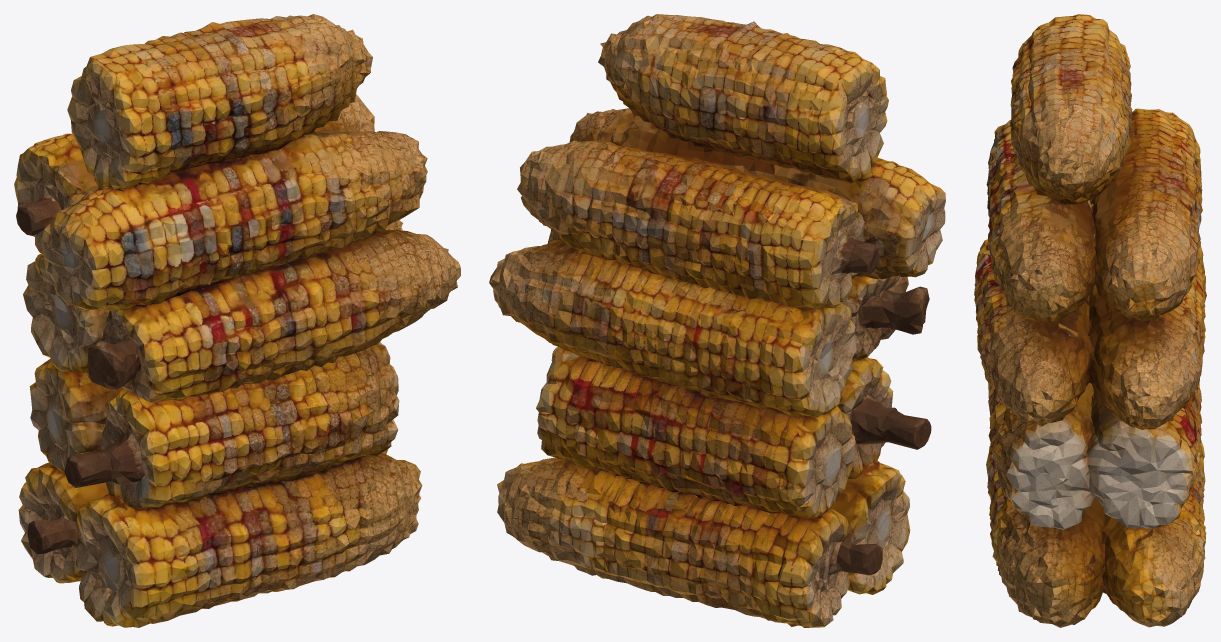
Rendered from belly (169).glb.
3 views of the same model, side by side, from view 1: azimuth 30°, elevation 25°; view 2: azimuth 150°, elevation 25°; view 3: azimuth 270°, elevation 25° (orthographic). The views are drawn at different scales.
Visible parts, largest first — view 1: Hy21_Mesh.obj; view 2: Hy21_Mesh.obj; view 3: Hy21_Mesh.obj.
Boxes of the visible parts, x1,y1,x2,y2 form: Hy21_Mesh.obj: [14, 14, 460, 627]; Hy21_Mesh.obj: [489, 14, 945, 627]; Hy21_Mesh.obj: [974, 14, 1206, 627].
Bounding box in the file's own units: 1.46 × 1.95 × 0.8159.
Materials: 1 (1 with a texture image).
